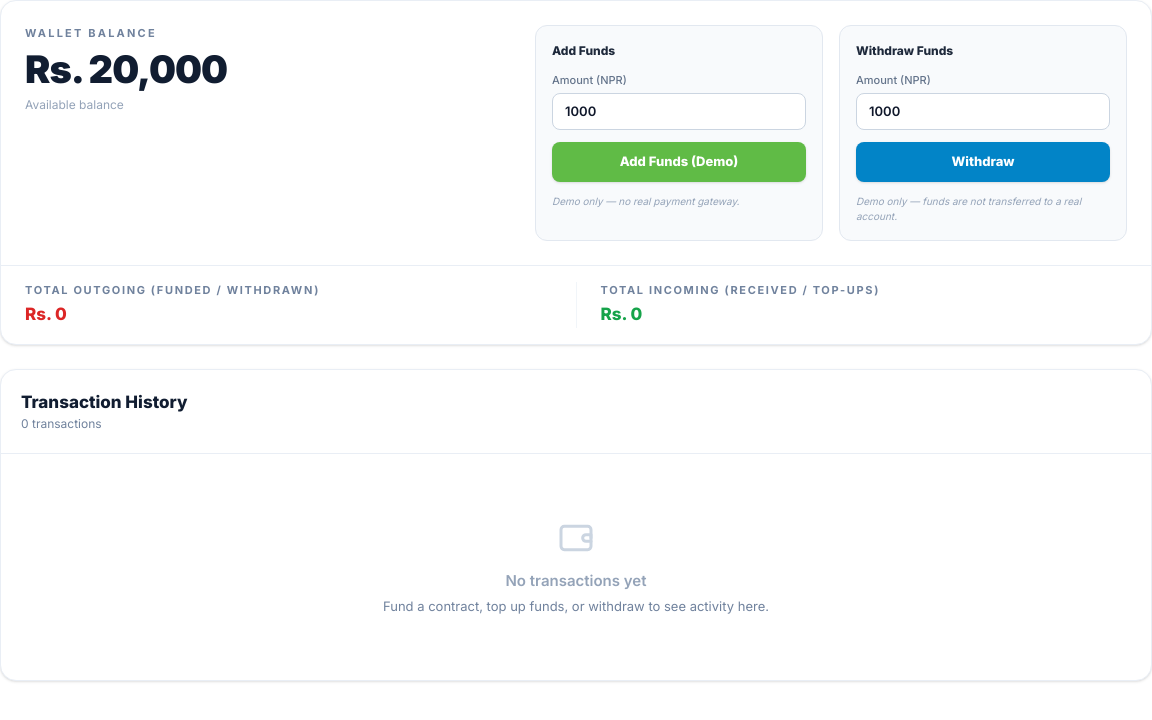
Scenario: WalletPanel Component Tests › decreases balance on successful withdrawal
Expected: the text "20,000" is shown, top-left (88, 46), bottom-right (227, 92)
Replace the text in the number field with placeholder "Enter amount" below "Withdraw Funds" with "5000": (983,111) top-left (856, 92), bottom-right (1110, 130)
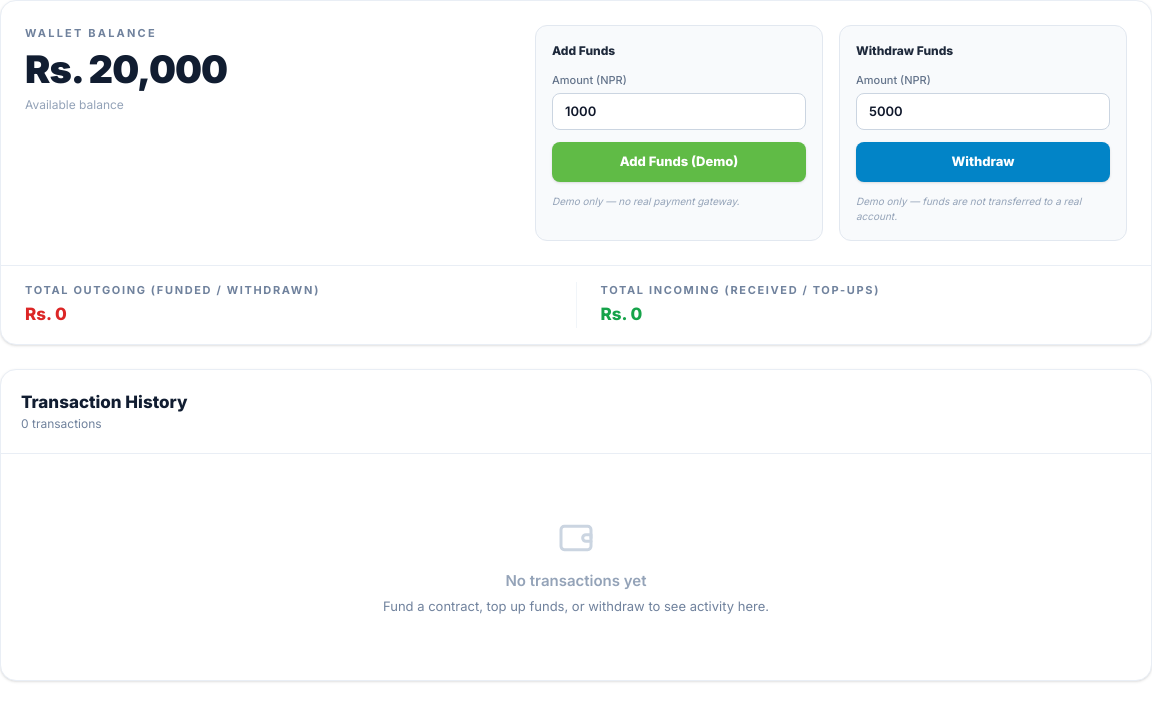
Submit the form with placeholder "Enter amount", box top-left (856, 72), bottom-right (1110, 224)
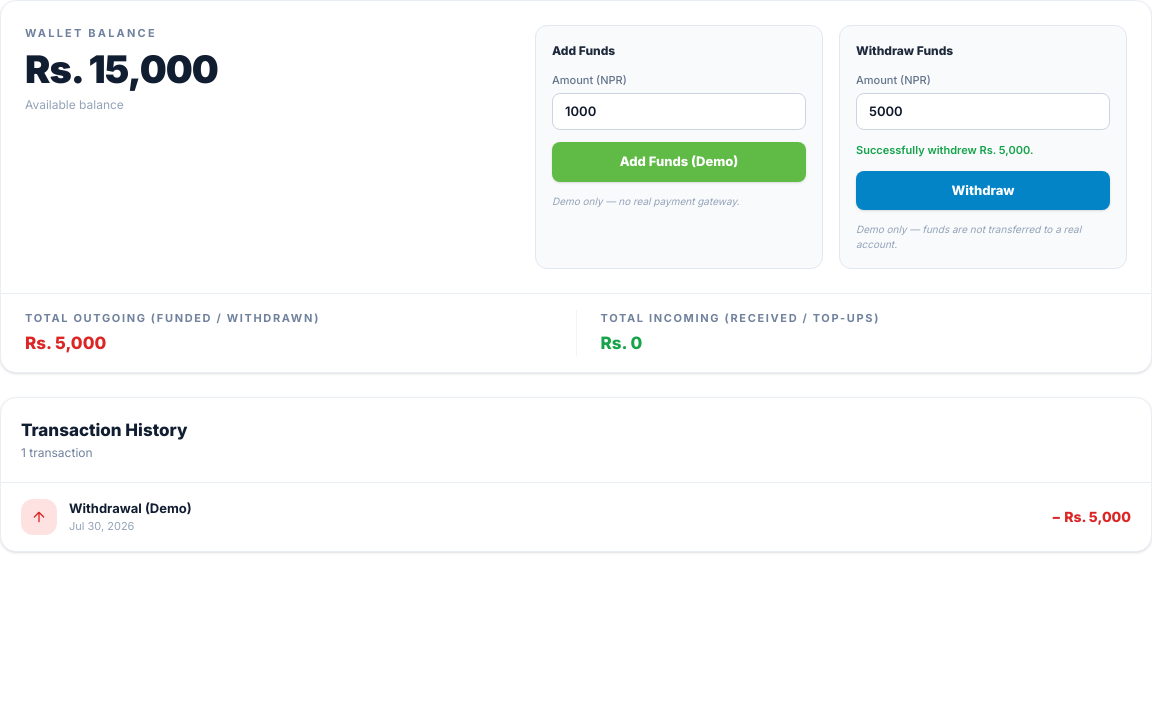
Now the text "15,000" is shown, box top-left (88, 46), bottom-right (218, 92)
Now the text "Successfully withdrew Rs. 5,000." is shown, box top-left (856, 143), bottom-right (1033, 157)
